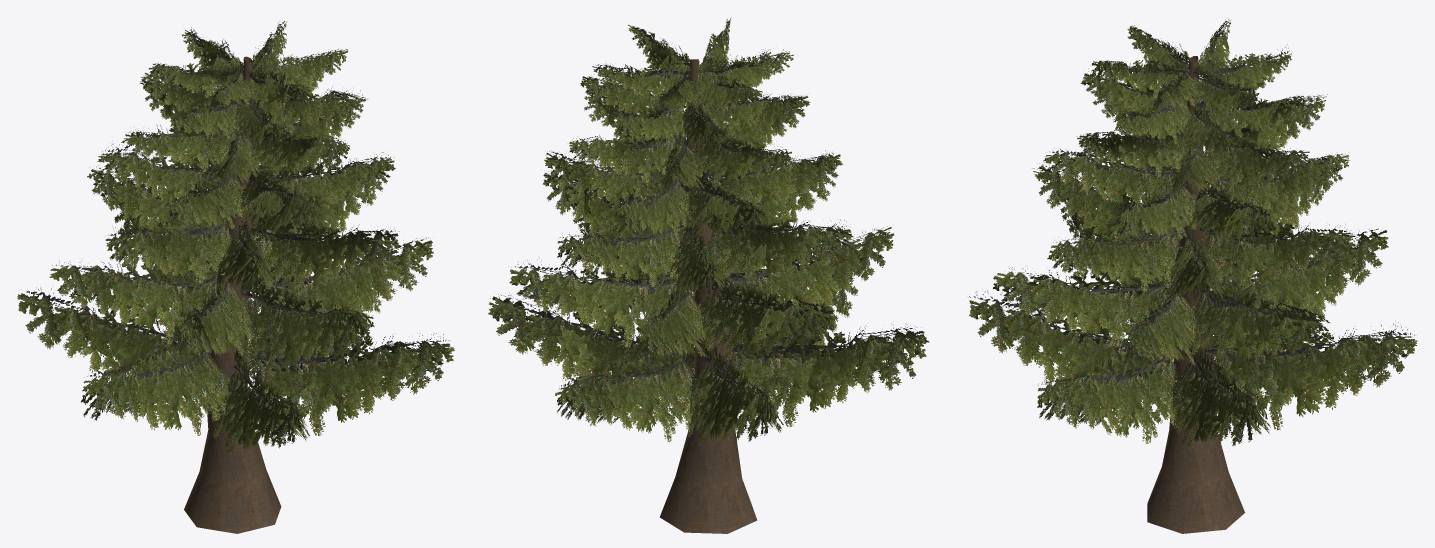
Rendered from PineTree.fbx.
3 views of the same model, side by side, from view 1: azimuth 30°, elevation 25°; view 2: azimuth 150°, elevation 25°; view 3: azimuth 270°, elevation 25° (orthographic). The views are drawn at different scales.
Visible parts, largest first — view 1: PineTree; view 2: PineTree; view 3: PineTree.
Boxes of the visible parts, bbox=[...] form: PineTree: bbox=[17, 21, 454, 533]; PineTree: bbox=[488, 17, 929, 533]; PineTree: bbox=[968, 19, 1417, 533].
Size of the model in its own units: 752 by 882 by 777.
